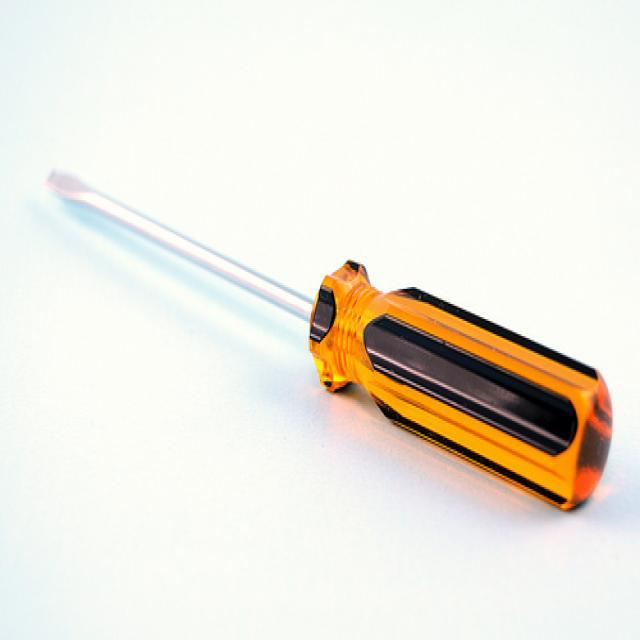screwdriver: (31, 147, 619, 518)
